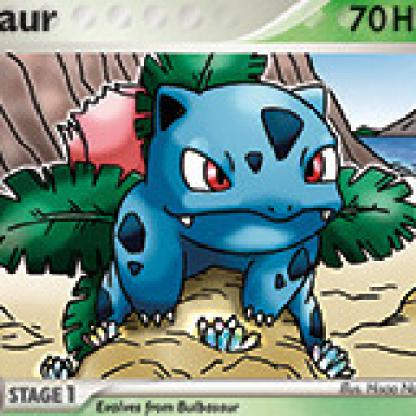Ivysaur: (1, 32, 415, 358)
